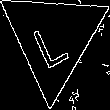L_NW: (31, 9, 76, 69)
